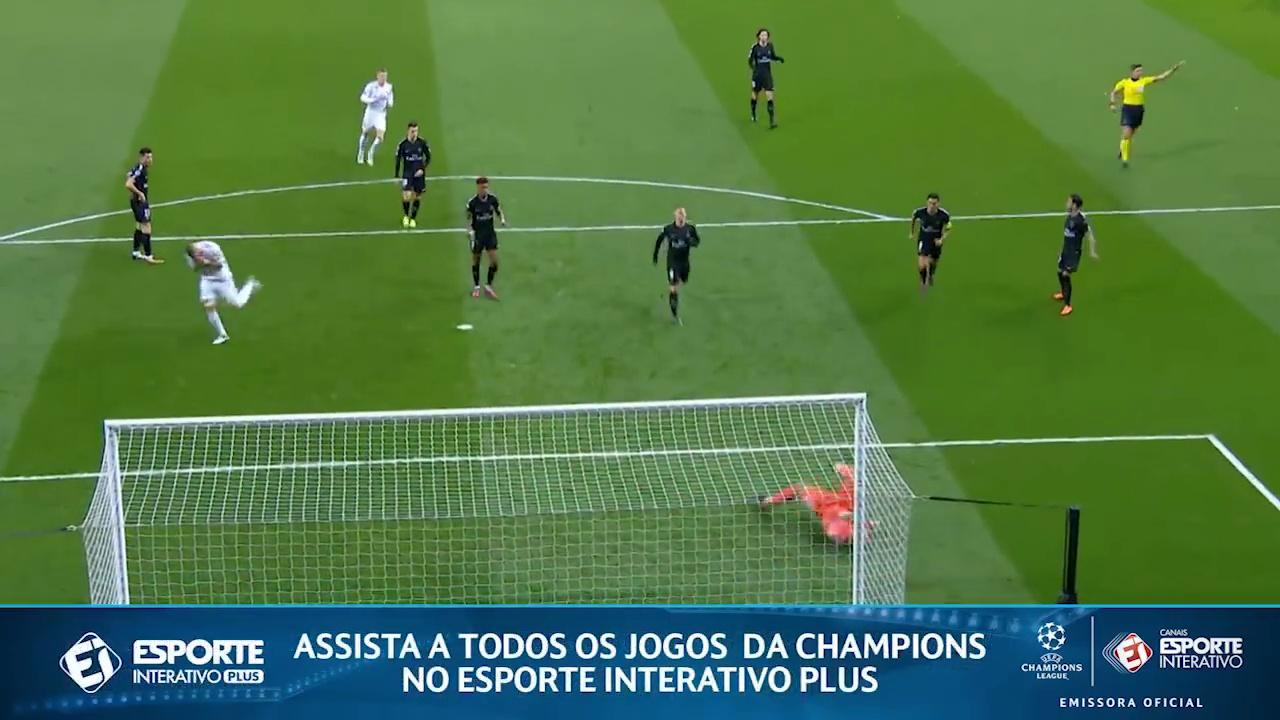player: (760, 463, 855, 544), (186, 241, 259, 344), (652, 207, 700, 323), (1053, 194, 1098, 315), (465, 176, 506, 299), (125, 147, 162, 263), (910, 193, 951, 291), (393, 122, 430, 227), (748, 28, 783, 128), (357, 69, 393, 165)
referee: (1109, 62, 1183, 166)
